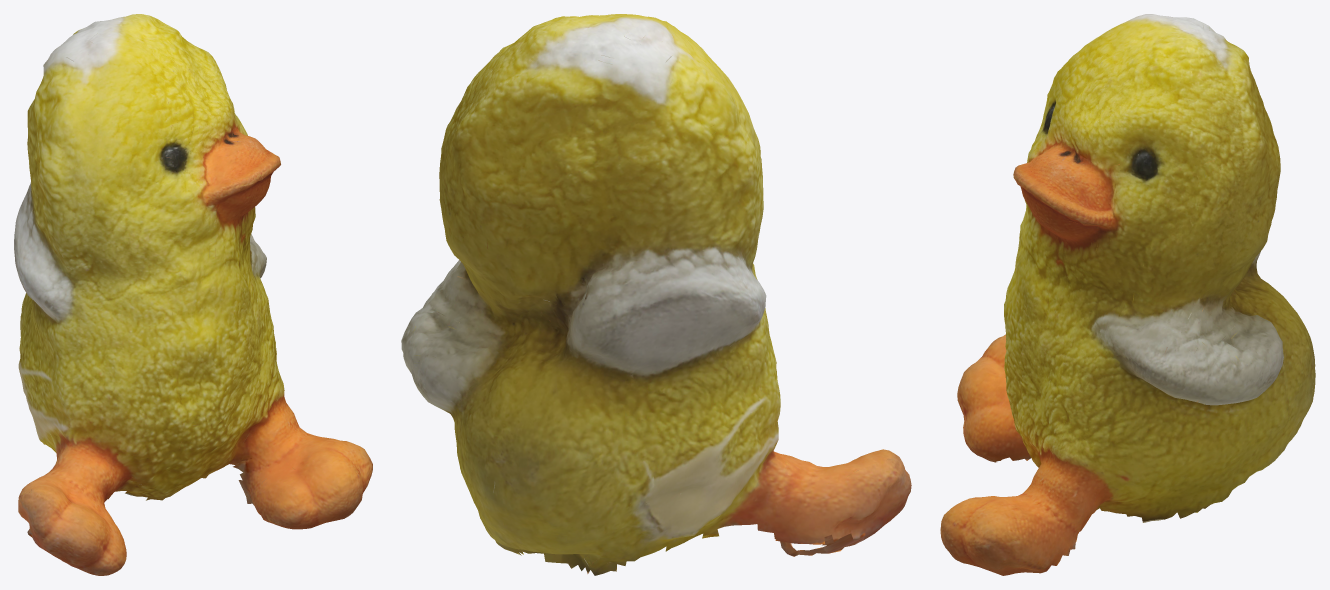
The model's file is eentje.glb.
The picture shows the model from 3 angles, left to right: view 1: azimuth 30°, elevation 25°; view 2: azimuth 150°, elevation 25°; view 3: azimuth 270°, elevation 25°; orthographic projection. The views are drawn at different scales.
Parts seen in each view (by area): view 1: eentje; view 2: eentje; view 3: eentje.
Part boxes in pixels (<box>): eentje: <box>14,14,372,575</box>; eentje: <box>401,14,911,575</box>; eentje: <box>940,14,1315,575</box>.
Size of the model in its own units: 0.1054 by 0.1387 by 0.0965.
1 material, 1 textured.
